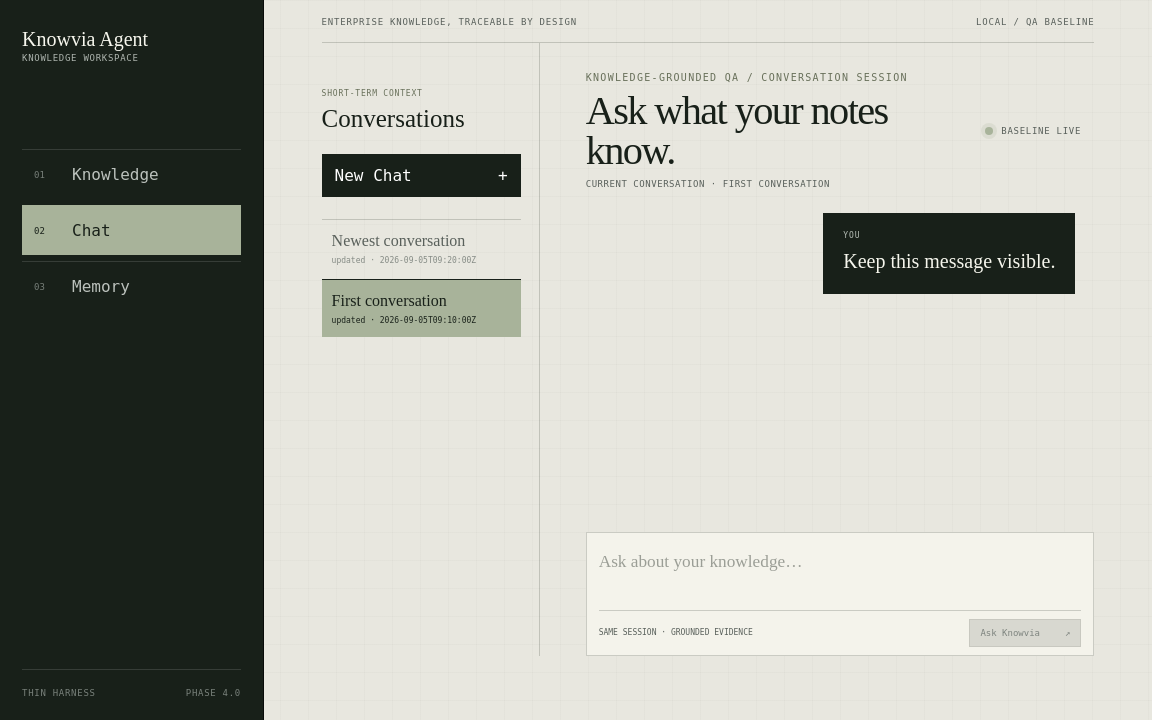
Test: conversation session UI › keeps the old session and URL when switching to another session fails
Expected: the text "Keep this message visible." is shown, [843,248,1055,276]
Click the button "Newest conversation updated · 2026-09-05T09:20:00Z": [421, 248] box [322,219,521,277]
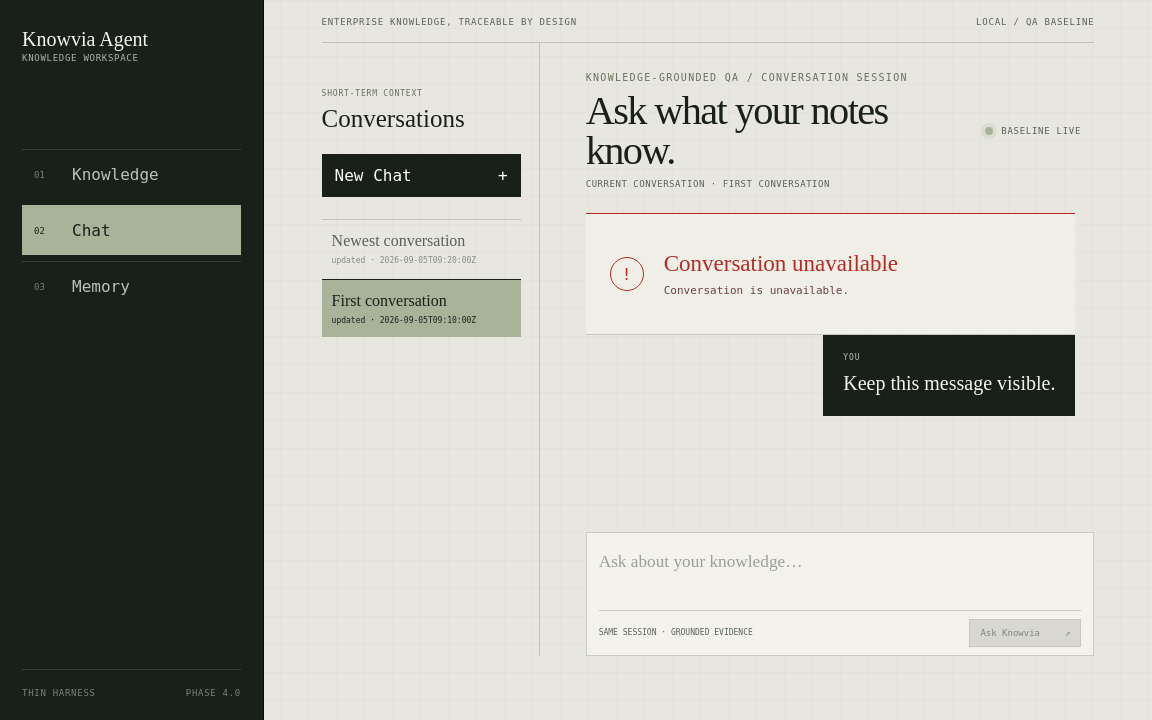
Expected: the text "Keep this message visible." is shown, [843,370,1055,398]
Result: the message shows "Conversation is unavailable." at [664,284,849,297]
